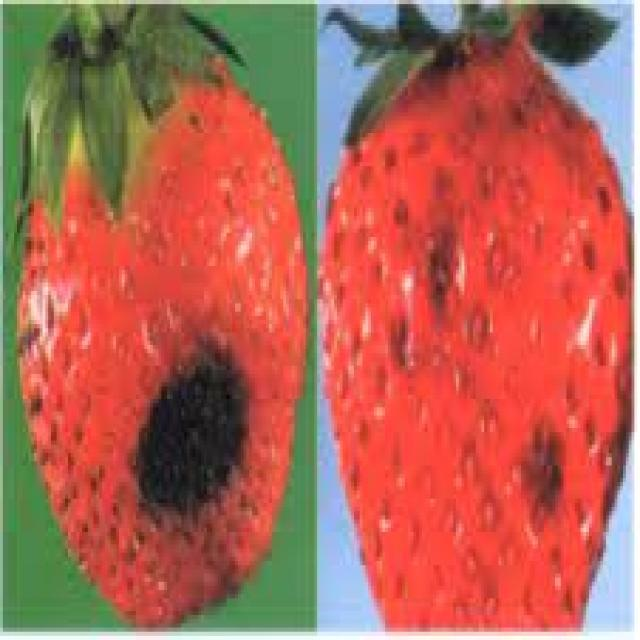Mancha negra Antracnosis: (338, 21, 624, 622), (27, 22, 301, 616)
